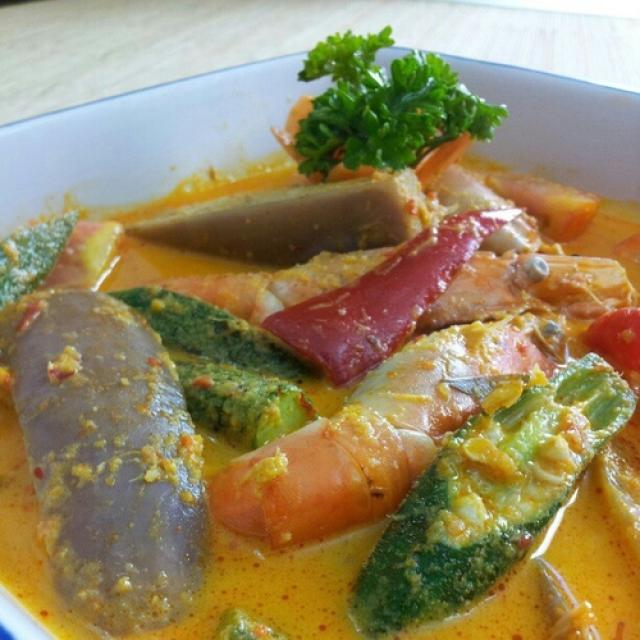熟制海鲜: (16, 44, 620, 610)
